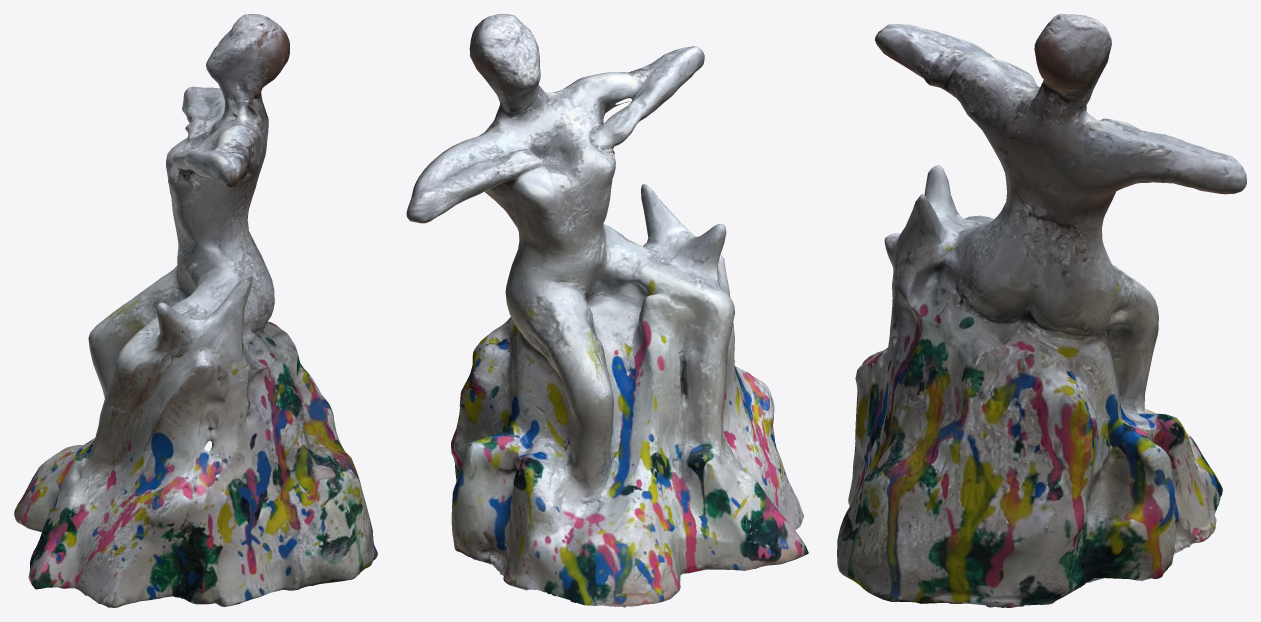
3 renders of one model, left to right at view 1: azimuth 30°, elevation 25°; view 2: azimuth 150°, elevation 25°; view 3: azimuth 270°, elevation 25°, orthographic. The views are drawn at different scales.
Visible parts, largest first — view 1: Mesh_0.006; view 2: Mesh_0.006; view 3: Mesh_0.006.
Boxes of the visible parts, box(x1,y1,x2,y2) form: Mesh_0.006: box(14, 14, 377, 607); Mesh_0.006: box(406, 14, 808, 607); Mesh_0.006: box(837, 14, 1246, 607).
Bounding box in the file's own units: 1.28 × 1.94 × 1.27.
10 materials, 9 textured.
